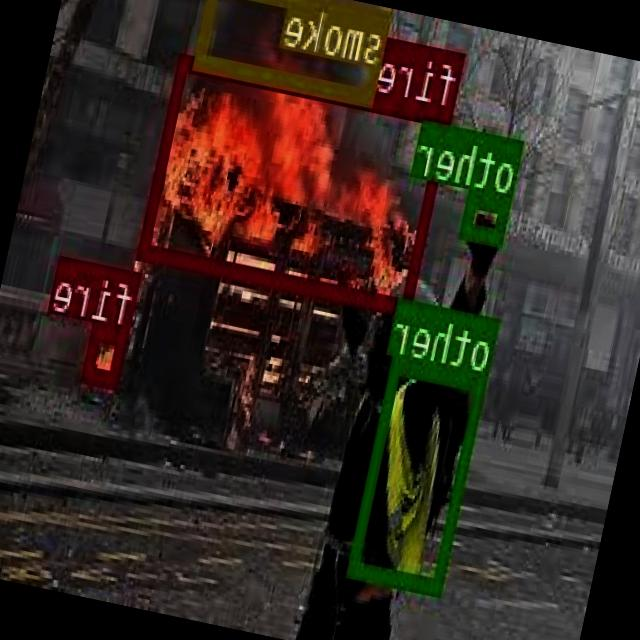fire: (140, 52, 455, 312), (83, 319, 132, 386)
smoke: (196, 0, 393, 104)
